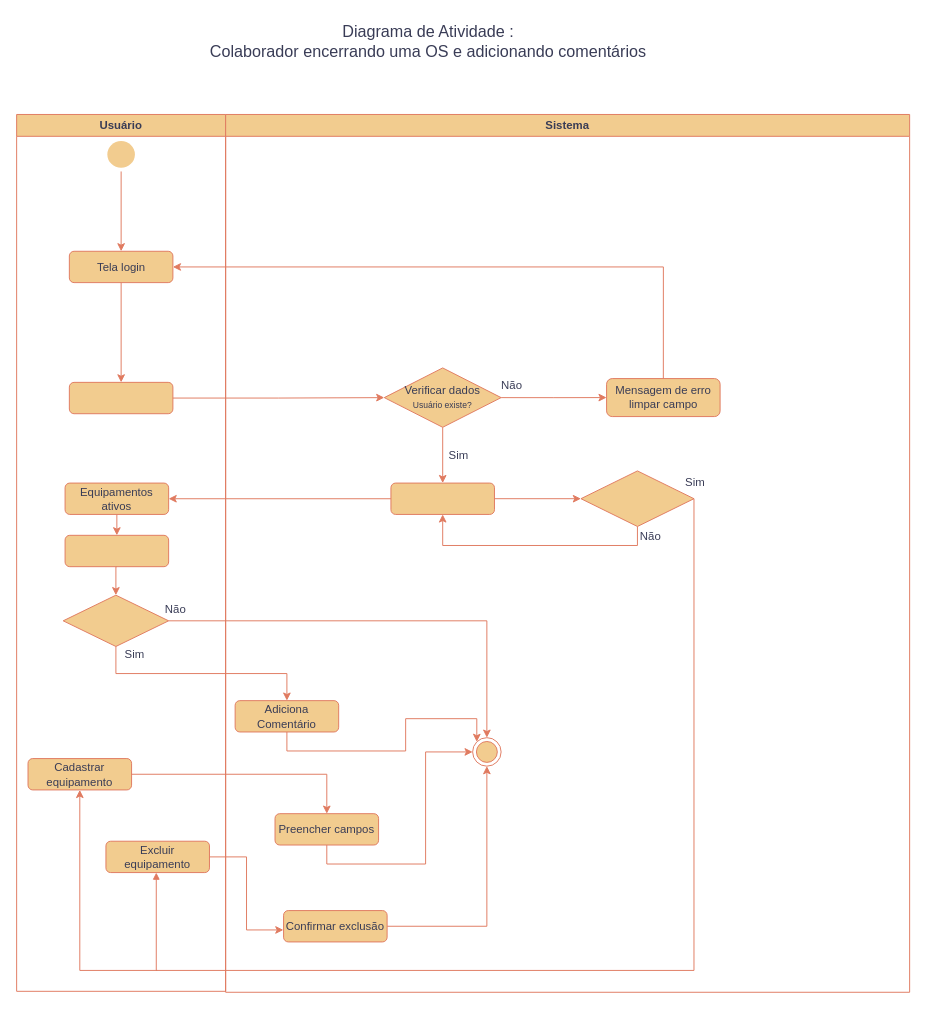
Some shapes in this 926 by 1009 pixel diagram are drawn without their labels. The centre of each missing label's shape, as x and y in pixels:
"Adicionar Comentário?" goes at point 115,620.
"Administrador" goes at point 637,498.
"Avançar para tela home" goes at point 442,498.
"Clicar em comentários" goes at point 116,550.
"Preencher campo" goes at point 120,397.
